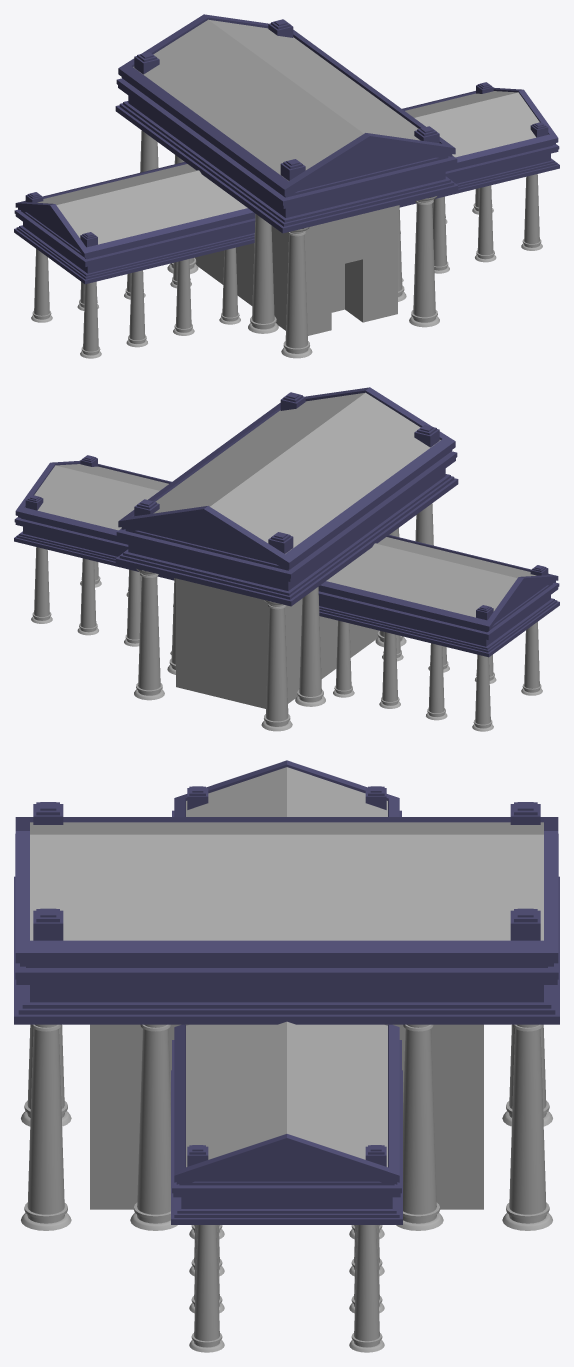
The model's file is SM_Temple 2.fbx.
3 views of the same model, one above another, from view 1: azimuth 30°, elevation 25°; view 2: azimuth 150°, elevation 25°; view 3: azimuth 270°, elevation 25° (orthographic). The views are drawn at different scales.
Visible parts, largest first — view 1: A5_Low2; view 2: A5_Low2; view 3: A5_Low2.
Boxes of the visible parts, <box> form: A5_Low2: <box>14,14,559,358</box>; A5_Low2: <box>14,387,559,731</box>; A5_Low2: <box>14,760,559,1352</box>.
Bounding box in the file's own units: 4092 × 1705 × 2494.
